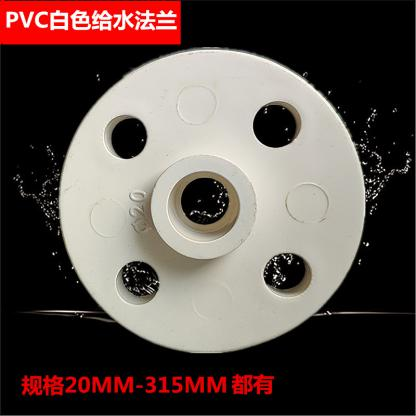FOD: (54, 45, 372, 355)
